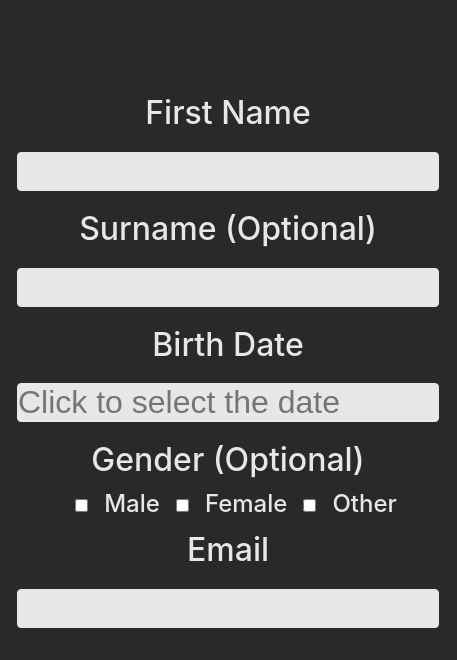
Scenario: PersonForm › email Field › should show error on input click when input is empty
Click the field labelled "email" at (228, 608), box [17,589,439,628]
(page scrolled)
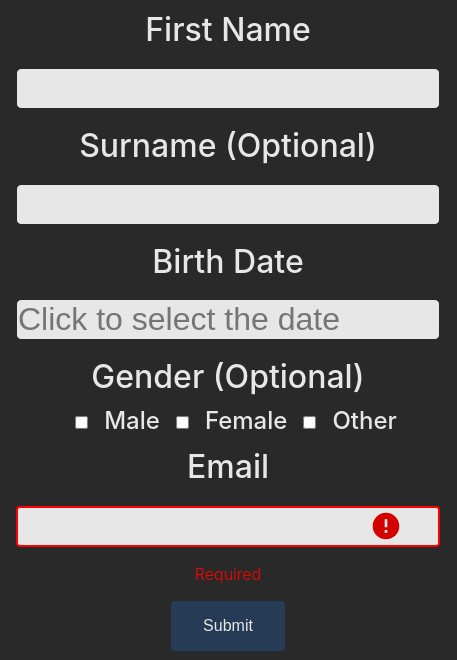
expect the text "Required" is shown: met, box [195,563,261,585]
expect the text with test id "emailError" reads "Required": met, box [195,564,261,584]
